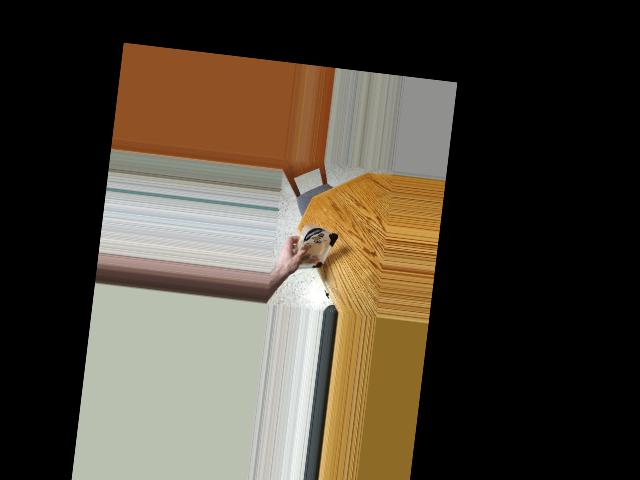cheese: (294, 225, 335, 277)
